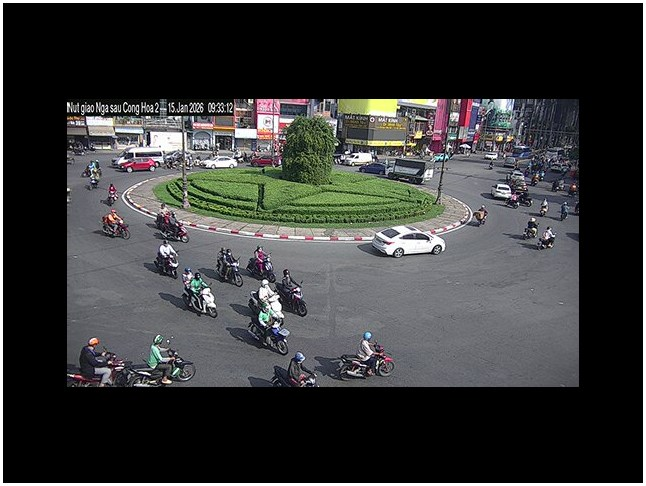car: (370, 227, 446, 257), (118, 155, 160, 173), (250, 154, 277, 167)
motorbike: (246, 353, 318, 387), (337, 346, 395, 379), (245, 315, 290, 354), (215, 247, 242, 285), (100, 209, 130, 239), (279, 286, 307, 317)
